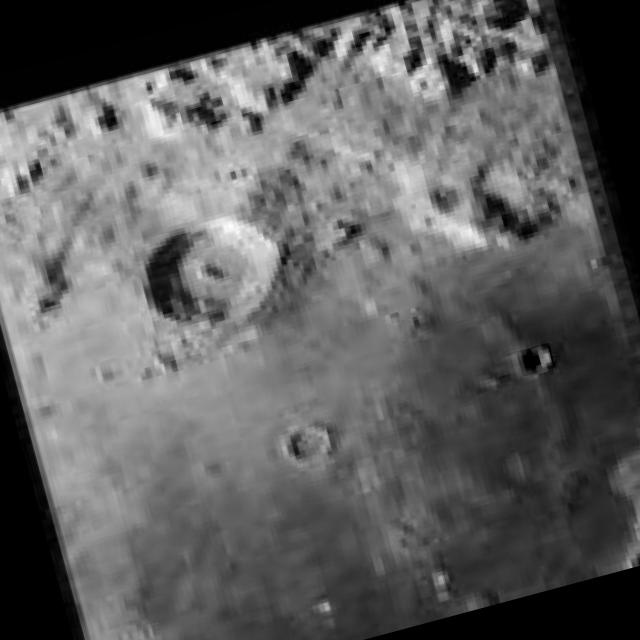crater: (135, 206, 293, 341), (283, 420, 333, 465), (516, 343, 556, 377)
